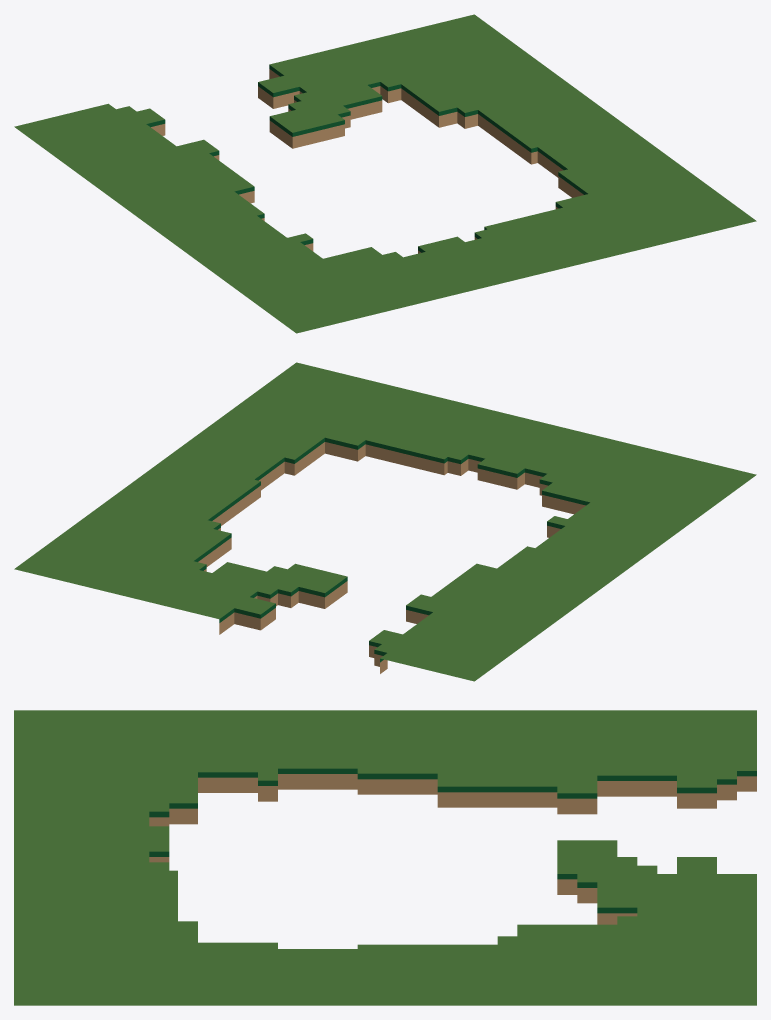
File: DM_Env_Tile_01.fbx
3 views of the same model, one above another, from view 1: azimuth 30°, elevation 25°; view 2: azimuth 150°, elevation 25°; view 3: azimuth 270°, elevation 25° (orthographic). The views are drawn at different scales.
Parts seen in each view (by area): view 1: SM_Env_Tile_01; view 2: SM_Env_Tile_01; view 3: SM_Env_Tile_01.
Boxes of the visible parts, left/top/right/bottom form: SM_Env_Tile_01: left=14, top=14, right=756, bottom=333; SM_Env_Tile_01: left=14, top=362, right=756, bottom=681; SM_Env_Tile_01: left=14, top=710, right=756, bottom=1005.
Bounding box in the file's own units: 87.59 × 93.06 × 2.89.
